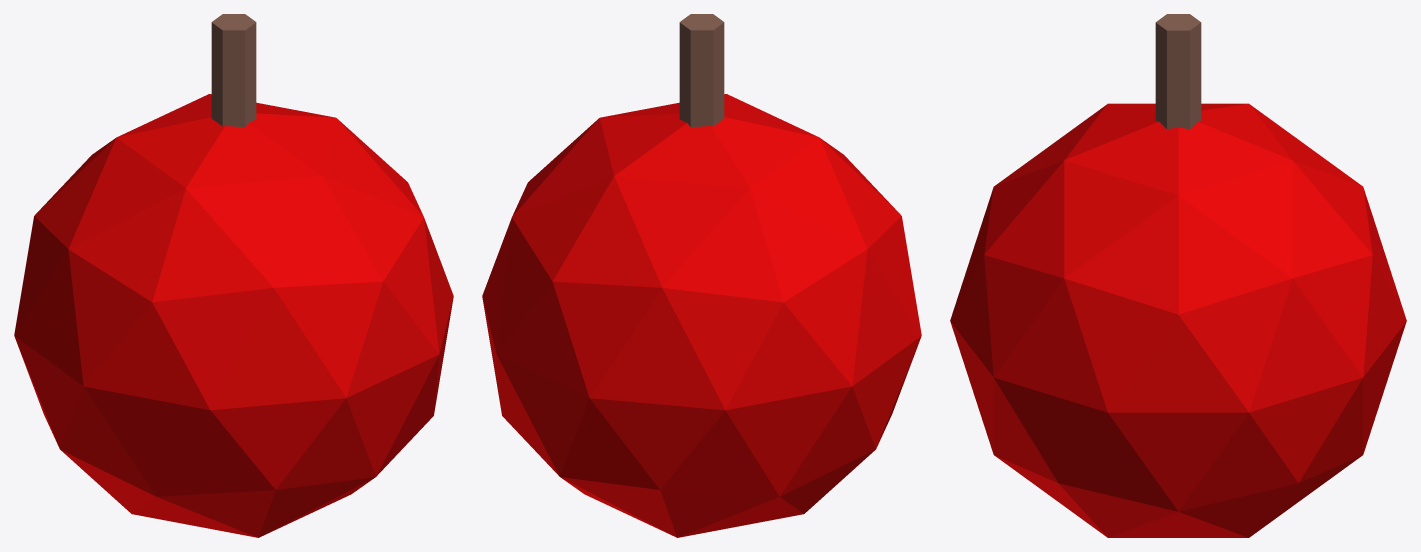
File: apple.fbx
3 renders of one model, left to right at view 1: azimuth 30°, elevation 25°; view 2: azimuth 150°, elevation 25°; view 3: azimuth 270°, elevation 25°, orthographic.
Visible parts, largest first — view 1: Icosphere, Cylinder; view 2: Icosphere, Cylinder; view 3: Icosphere, Cylinder.
Boxes of the visible parts, x1,y1,x2,y2 form: Icosphere: (14, 94, 453, 537); Cylinder: (211, 14, 256, 127); Icosphere: (482, 94, 921, 537); Cylinder: (679, 14, 724, 127); Icosphere: (950, 103, 1406, 537); Cylinder: (1155, 14, 1201, 129).
Bounding box in the file's own units: 190 × 244 × 200.
